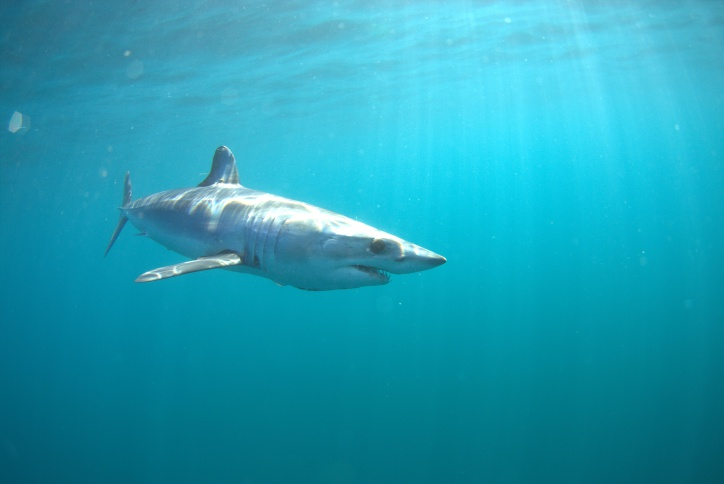Mako: (88, 142, 447, 302)
